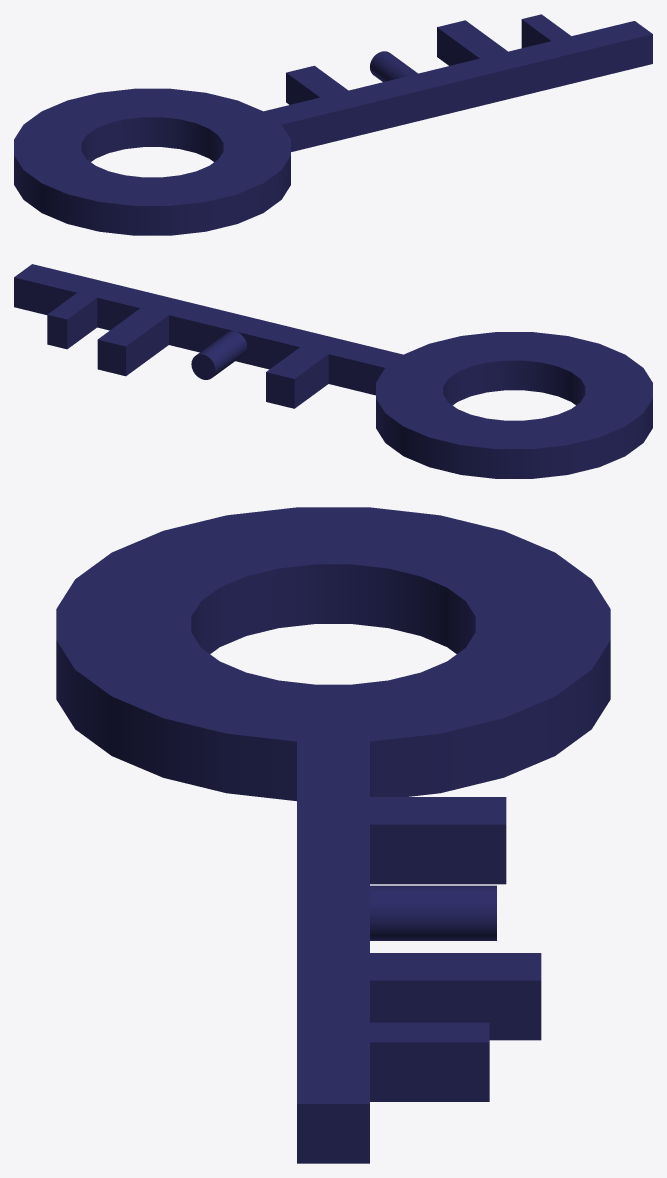
File: FinalKey.dae
The picture shows the model from 3 angles, top to bottom: view 1: azimuth 30°, elevation 25°; view 2: azimuth 150°, elevation 25°; view 3: azimuth 270°, elevation 25°; orthographic projection. The views are drawn at different scales.
Parts seen in each view (by area): view 1: SketchUp (×3); view 2: SketchUp (×3); view 3: SketchUp (×3).
Boxes of the visible parts, left/top/right/bottom form: SketchUp (×3): left=14, top=14, right=652, bottom=235; SketchUp (×3): left=14, top=264, right=652, bottom=478; SketchUp (×3): left=56, top=507, right=610, bottom=1163.
Size of the model in its own units: 237 by 92.9 by 11.02.
